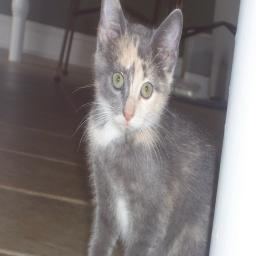catnose: (122, 109, 134, 124)
